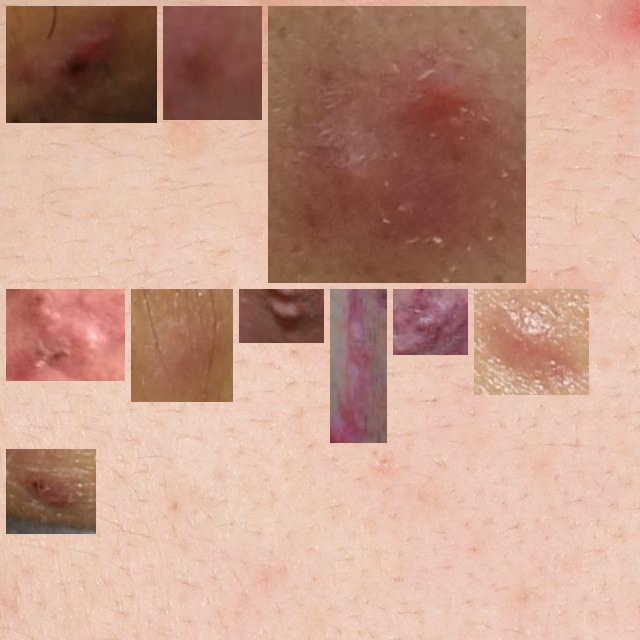nodule: (276, 14, 518, 275), (14, 14, 149, 115), (482, 297, 581, 387), (139, 297, 225, 394), (171, 14, 254, 112), (14, 297, 117, 373), (338, 297, 379, 435), (14, 457, 88, 526), (401, 297, 460, 347), (247, 297, 316, 335)
